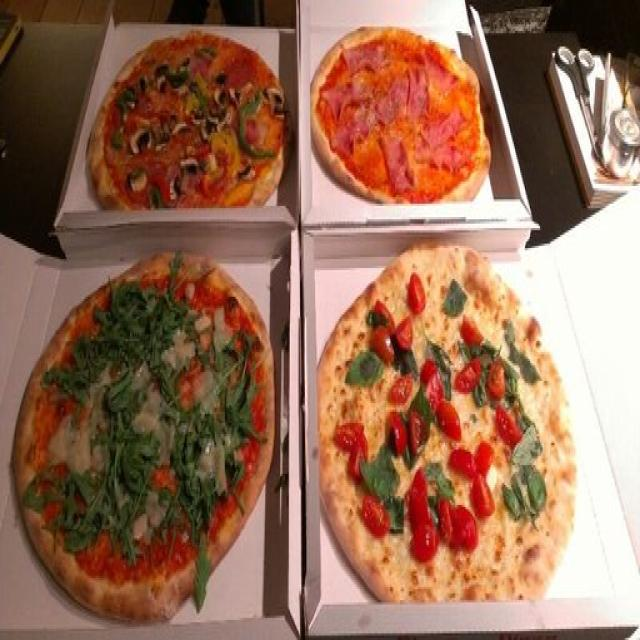Basil: (402, 386, 426, 466), (508, 464, 542, 518), (514, 411, 541, 466), (346, 350, 386, 385), (441, 285, 467, 315), (476, 343, 496, 361), (506, 360, 514, 403)
Chicken: (38, 334, 103, 402), (44, 411, 104, 468), (196, 438, 226, 495), (207, 306, 235, 352), (189, 376, 219, 416), (86, 363, 110, 410), (165, 334, 189, 363), (125, 366, 148, 385), (186, 274, 196, 302), (192, 320, 210, 330)
Green Pepper: (238, 85, 263, 154), (113, 84, 135, 116), (150, 187, 164, 205), (108, 129, 120, 146)
Ham: (377, 60, 428, 132), (330, 102, 369, 157), (413, 136, 467, 171), (383, 129, 414, 189), (339, 49, 378, 81), (425, 107, 459, 140), (322, 84, 352, 115), (430, 60, 456, 94)
Mushrooms: (147, 114, 172, 148), (127, 124, 149, 162), (212, 95, 236, 127), (196, 111, 218, 138), (125, 168, 147, 192), (195, 44, 219, 66), (268, 82, 284, 114), (225, 84, 251, 103), (166, 173, 180, 200), (179, 153, 195, 175), (172, 116, 188, 138), (214, 85, 229, 108), (155, 70, 168, 92), (136, 68, 147, 94), (175, 57, 192, 73)
Pizza: (14, 257, 274, 620), (319, 250, 575, 600), (89, 31, 289, 208), (312, 29, 490, 204)
Rucola: (57, 476, 134, 556), (104, 293, 170, 364), (106, 406, 144, 494), (224, 341, 253, 451), (148, 355, 182, 416), (168, 410, 203, 462), (182, 463, 209, 526)
Tomato: (333, 417, 366, 480), (436, 490, 462, 554), (408, 469, 432, 531), (362, 491, 392, 537), (408, 525, 434, 570), (453, 356, 480, 398), (421, 360, 445, 407), (495, 403, 521, 445), (469, 474, 495, 514), (446, 444, 476, 476), (377, 298, 401, 337), (433, 402, 460, 434), (453, 502, 477, 538), (387, 413, 406, 455), (461, 315, 483, 349), (477, 434, 492, 482), (388, 371, 410, 403), (406, 408, 423, 448), (487, 358, 503, 398), (369, 330, 393, 356), (409, 272, 424, 310), (399, 310, 411, 338)
